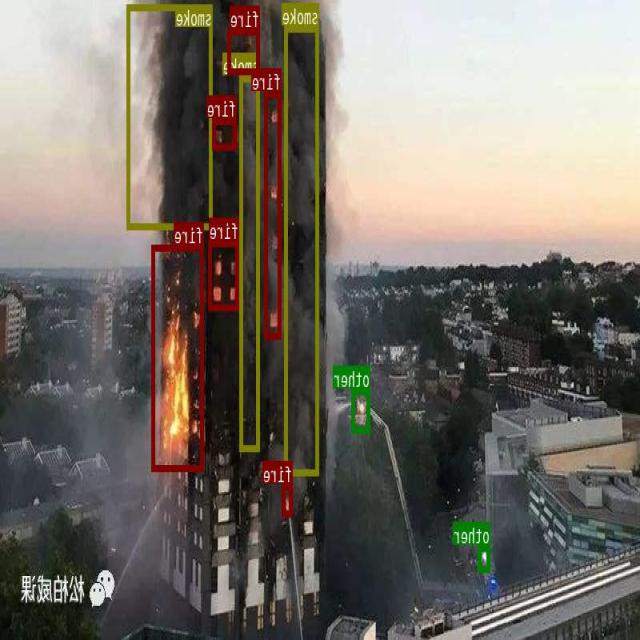fire: (153, 244, 205, 470), (265, 90, 282, 338), (209, 240, 240, 310), (228, 28, 260, 73), (214, 116, 237, 148), (283, 484, 293, 516)
other: (352, 388, 371, 432), (479, 544, 491, 572)
smoke: (128, 4, 213, 228), (285, 25, 320, 475), (240, 75, 261, 450)
